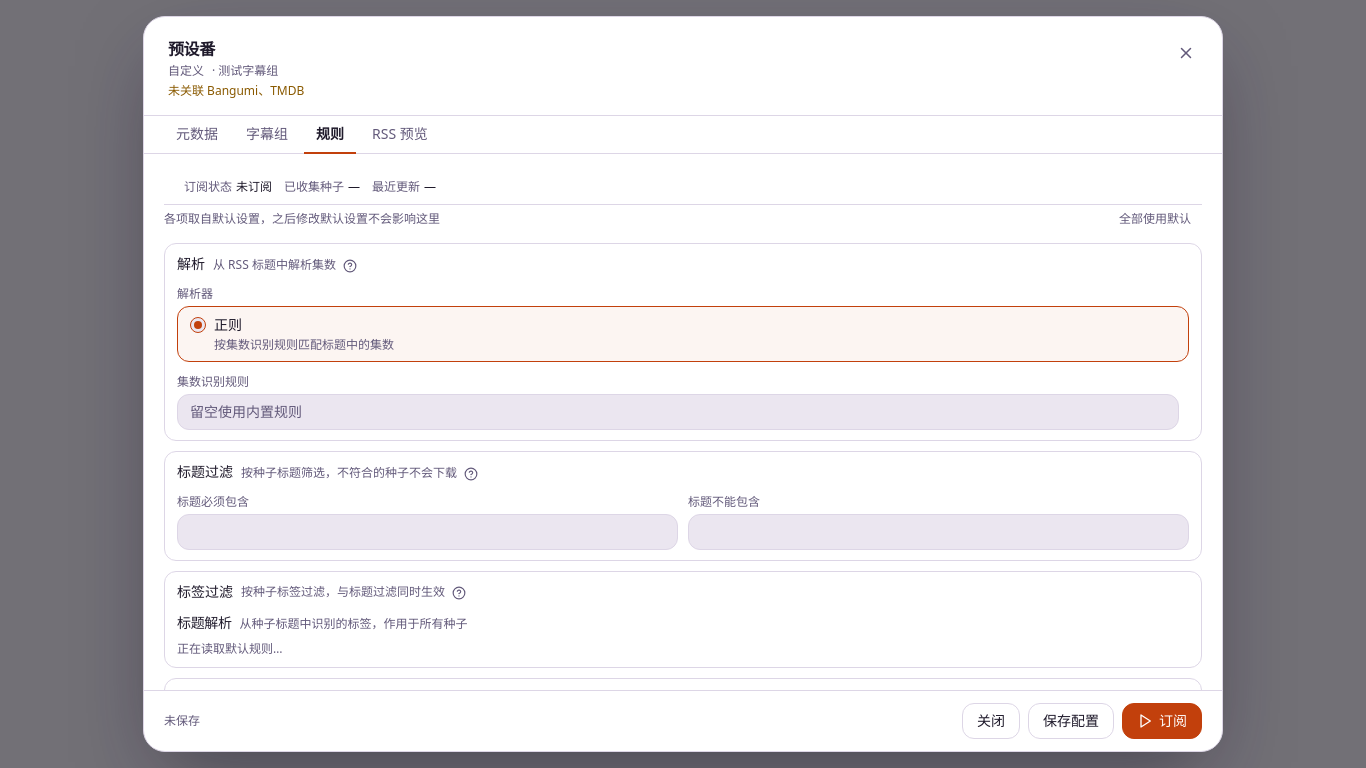
Test case: AnimeConfigDialog draft rules copied from the preset › 草稿规则段卡「已修改」：新草稿不标记，未保存的编辑标记该段，「全部使用默认」后消失
The image size is (1366, 768).
expect the text "标题过滤" is shown: met, box [177,462,233,481]
expect the text "已修改" is not shown: met
Type "720p" into the field labelled "标题不能包含".
click(938, 532); type("720p")  # box [688,514,1189,550]
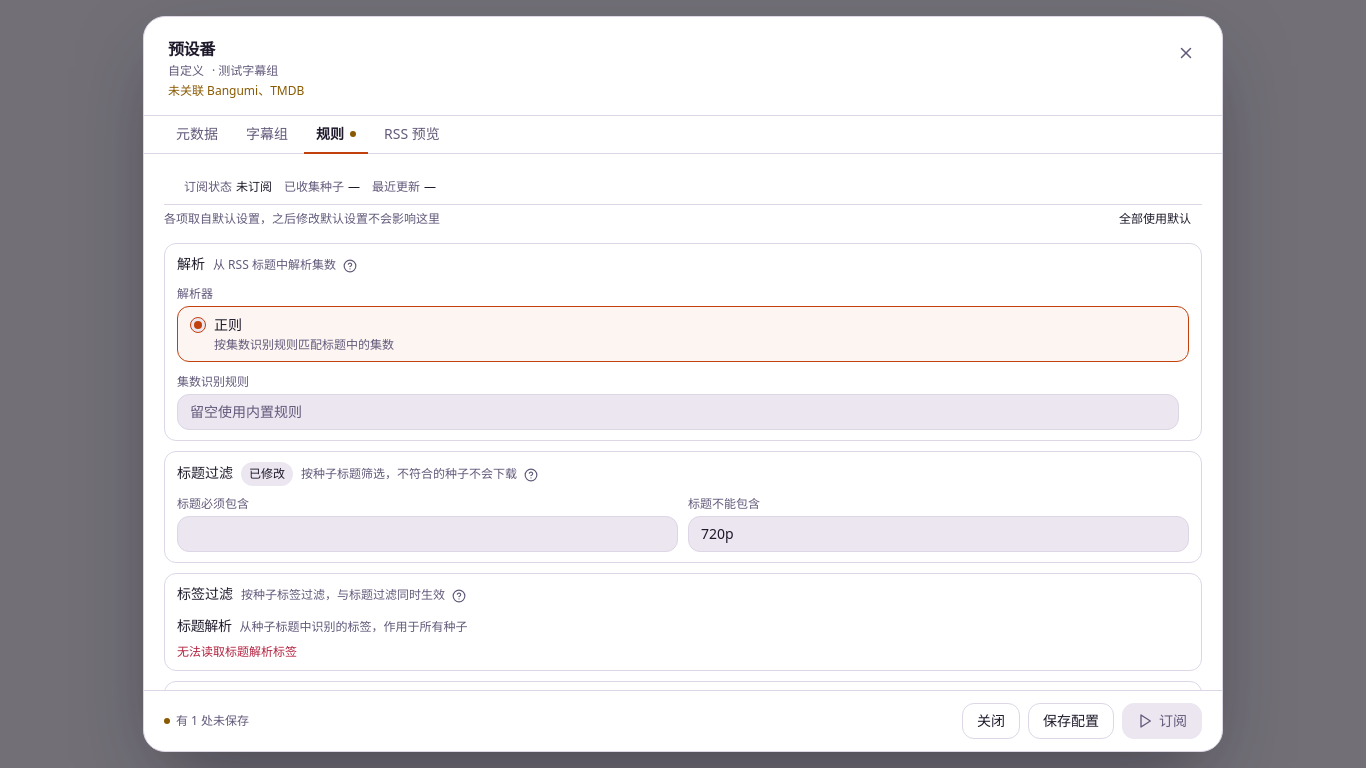
expect the text "已修改" is shown once: met, box [241,462,293,486]
Click the button "全部使用默认".
click(1155, 219)  # box [1108,205,1202,233]
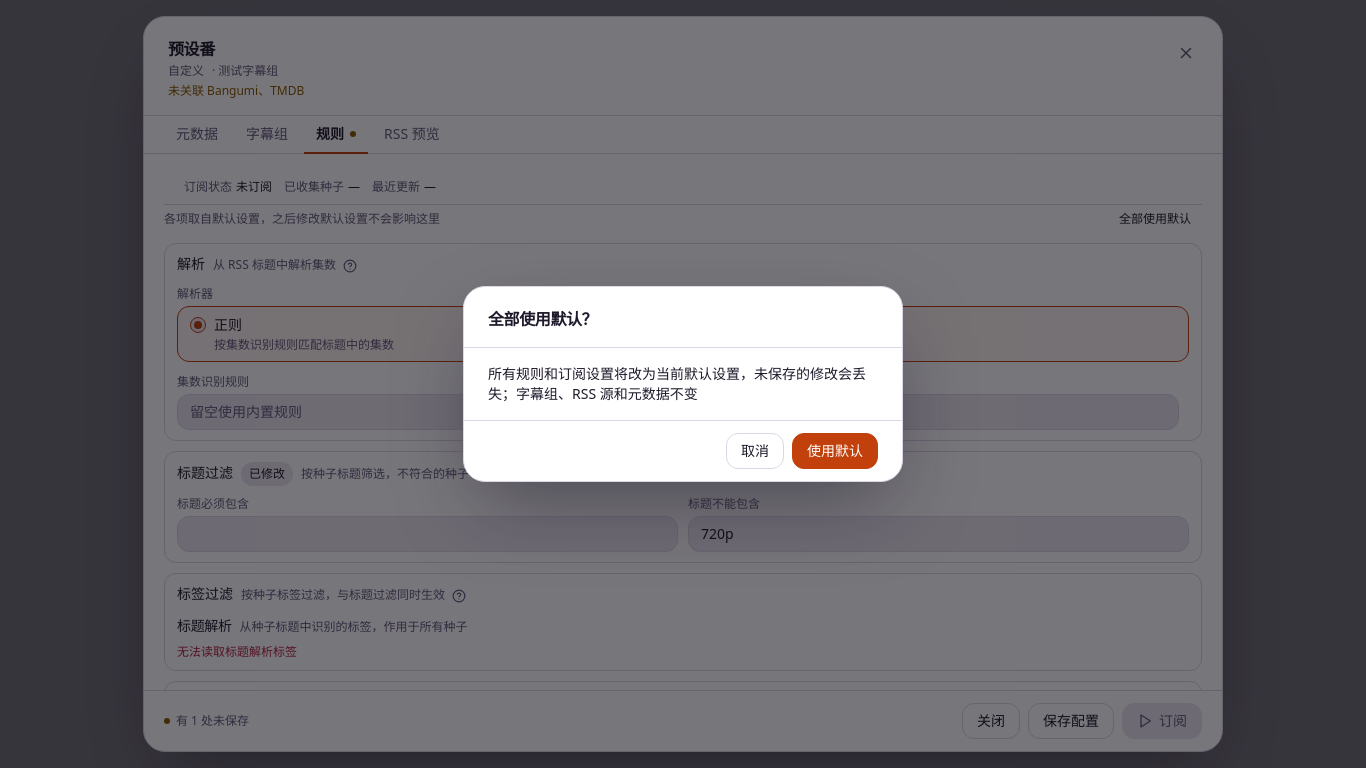
Click the button "使用默认".
click(835, 451)  # box [792,433,878,469]
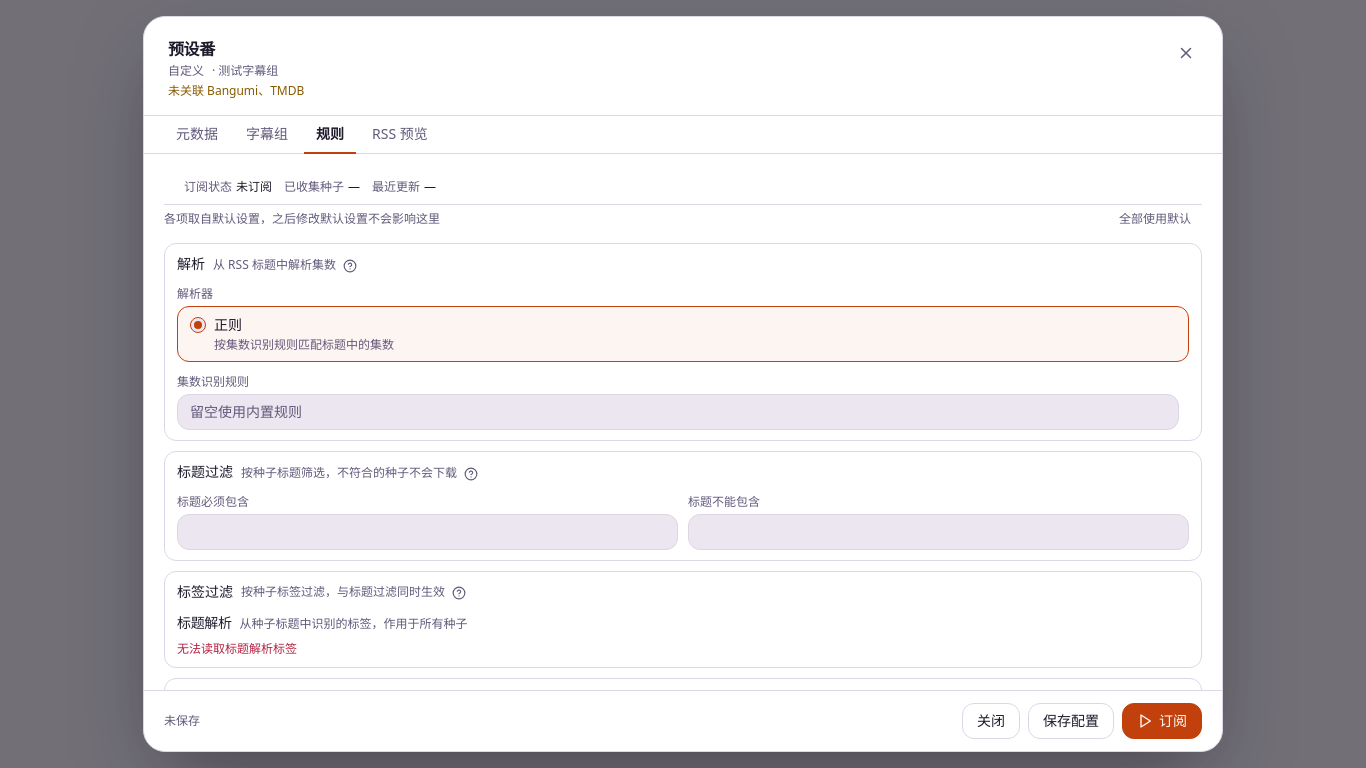
expect the text "已修改" is gone: met
expect the button "全部使用默认" is disabled: met, box [1108,205,1202,233]
